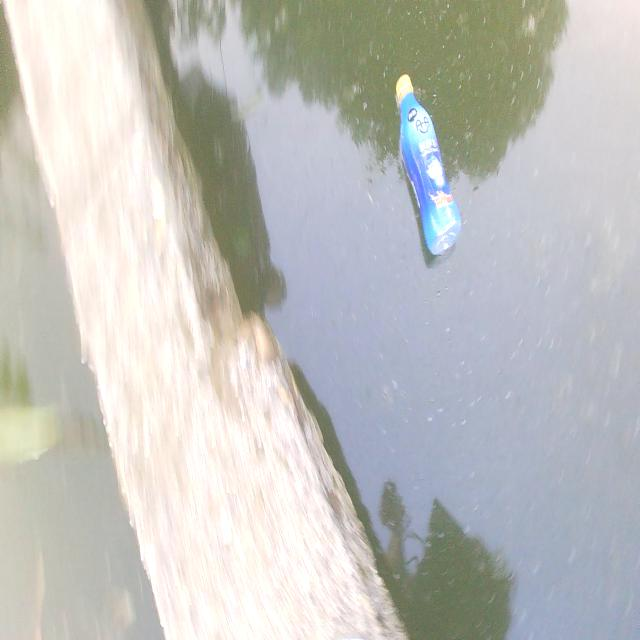bottle: (383, 59, 480, 274)
